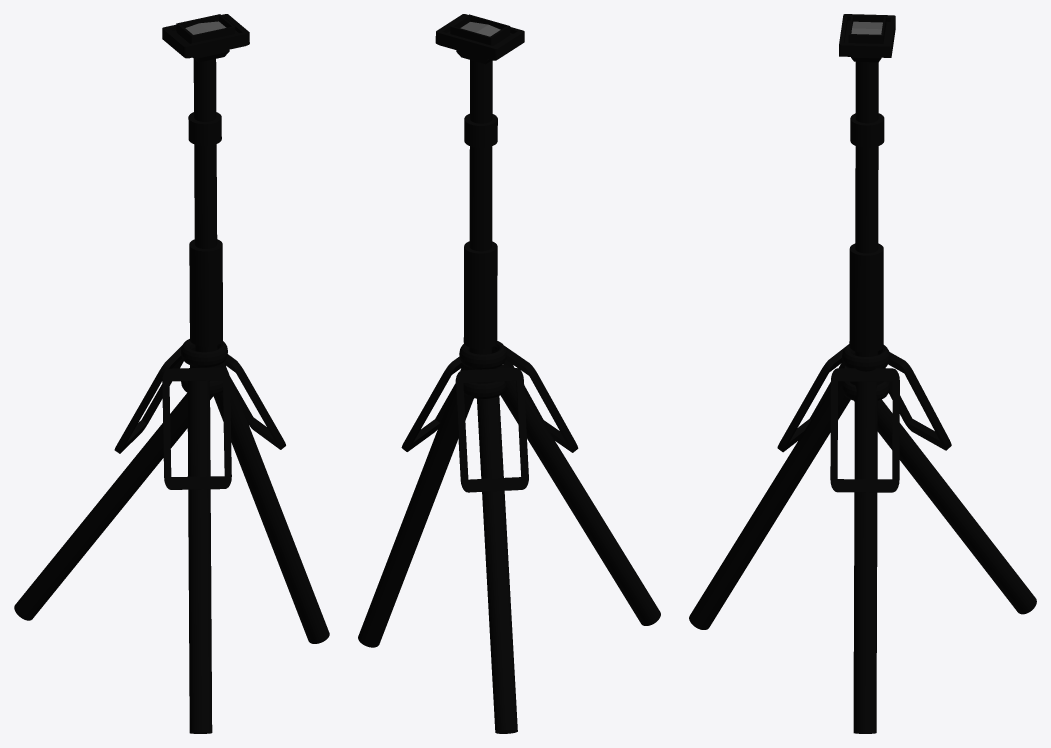
The model's file is cameraBase.obj.
The picture shows the model from 3 angles, left to right: view 1: azimuth 30°, elevation 25°; view 2: azimuth 150°, elevation 25°; view 3: azimuth 270°, elevation 25°; orthographic projection. The views are drawn at different scales.
Visible parts, largest first — view 1: Cylinder.011, Cylinder.012, Cylinder.010, Cylinder.017, Cylinder.009, Cube.011, Cube.010, Cube.008, Cube.009, Cylinder.016, Torus.003; view 2: Cylinder.010, Cylinder.011, Cylinder.012, Cylinder.017, Cylinder.009, Cube.008, Cube.010, Cube.011, Cube.009, Cylinder.016, Torus.003, Torus.002; view 3: Cylinder.012, Cylinder.011, Cylinder.010, Cylinder.017, Cylinder.009, Cube.009, Cube.010, Cube.008, Cube.011, Cylinder.016, Torus.003.
Boxes of the visible parts, x1=… form: Cylinder.011: x1=187, y1=380, x2=212, y2=733; Cylinder.012: x1=213, y1=362, x2=329, y2=643; Cylinder.010: x1=14, y1=393, x2=213, y2=620; Cylinder.017: x1=193, y1=59, x2=217, y2=352; Cylinder.009: x1=189, y1=239, x2=222, y2=346; Cube.011: x1=162, y1=367, x2=231, y2=489; Cube.010: x1=162, y1=14, x2=249, y2=62; Cube.008: x1=114, y1=346, x2=183, y2=453; Cube.009: x1=224, y1=354, x2=285, y2=449; Cylinder.016: x1=188, y1=112, x2=221, y2=145; Torus.003: x1=181, y1=339, x2=227, y2=367; Cylinder.010: x1=477, y1=396, x2=517, y2=733; Cylinder.011: x1=497, y1=364, x2=660, y2=625; Cylinder.012: x1=358, y1=364, x2=473, y2=647; Cylinder.017: x1=469, y1=60, x2=492, y2=354; Cylinder.009: x1=463, y1=241, x2=497, y2=349; Cube.008: x1=455, y1=368, x2=528, y2=492; Cube.010: x1=435, y1=14, x2=524, y2=64; Cube.011: x1=503, y1=346, x2=578, y2=452; Cube.009: x1=401, y1=356, x2=463, y2=451; Cylinder.016: x1=464, y1=113, x2=497, y2=147; Torus.003: x1=459, y1=341, x2=506, y2=369; Torus.002: x1=463, y1=381, x2=505, y2=398; Cylinder.012: x1=853, y1=381, x2=877, y2=733; Cylinder.011: x1=689, y1=366, x2=850, y2=629; Cylinder.010: x1=854, y1=399, x2=1036, y2=614; Cylinder.017: x1=855, y1=61, x2=878, y2=356; Cylinder.009: x1=849, y1=243, x2=883, y2=352; Cube.009: x1=830, y1=368, x2=899, y2=492; Cube.010: x1=839, y1=14, x2=895, y2=62; Cube.008: x1=885, y1=352, x2=951, y2=450; Cube.011: x1=777, y1=344, x2=848, y2=452; Cylinder.016: x1=850, y1=113, x2=884, y2=147; Torus.003: x1=842, y1=344, x2=890, y2=371.
Bounding box in the file's own units: 3.43 × 8.99 × 4.32.
13 materials, 13 textured.
